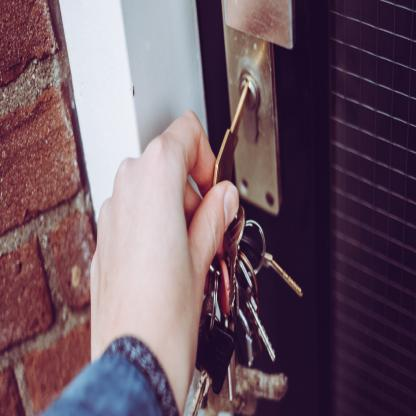keys: (184, 220, 305, 416), (208, 76, 254, 222)
